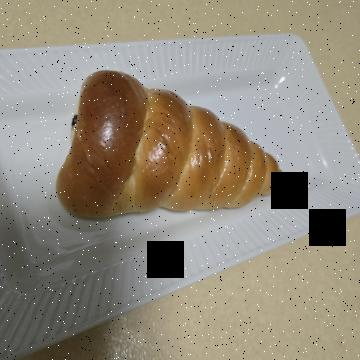cream horn: (53, 53, 231, 306)
